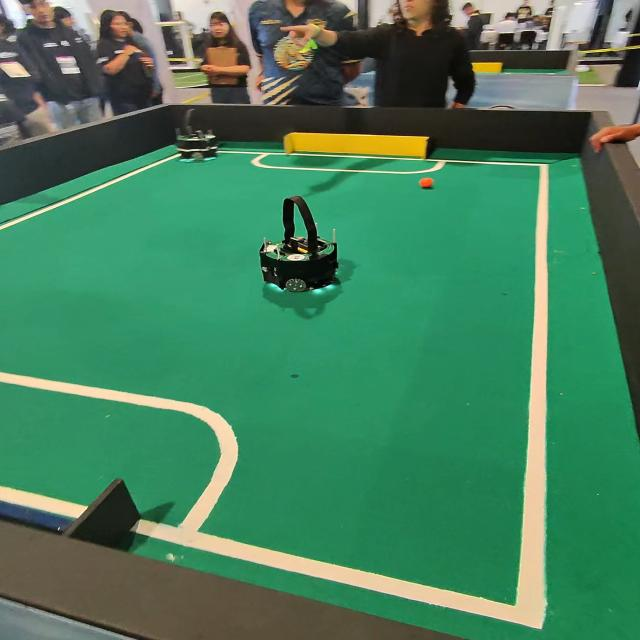Robot: (248, 185, 364, 312), (168, 106, 224, 168)
pelota: (399, 167, 460, 207)
